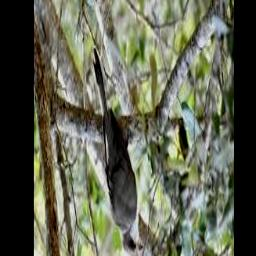Cuckoo: (93, 49, 142, 255)
